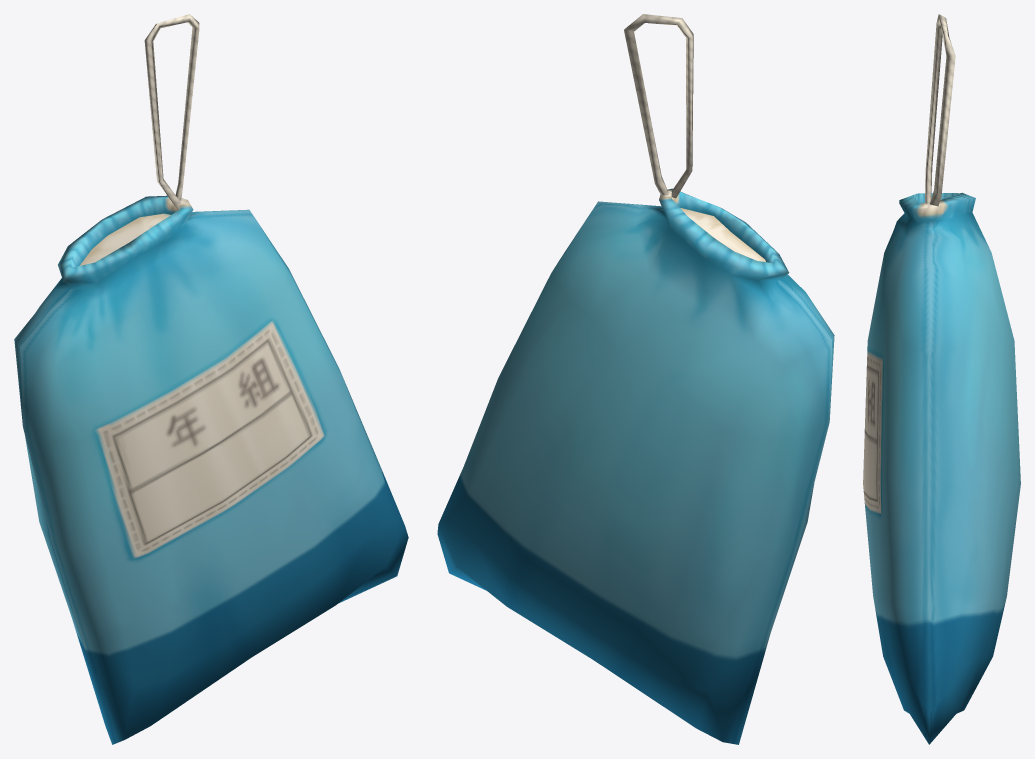
Rendered from Bag_B_01_02.fbx.
3 views of the same model, side by side, from view 1: azimuth 30°, elevation 25°; view 2: azimuth 150°, elevation 25°; view 3: azimuth 270°, elevation 25° (orthographic).
Visible parts, largest first — view 1: bag_B_01_02; view 2: bag_B_01_02; view 3: bag_B_01_02.
Part boxes in pixels (box(x1,y1,x2,y2)): bag_B_01_02: box(14, 14, 408, 744); bag_B_01_02: box(437, 14, 834, 744); bag_B_01_02: box(863, 14, 1020, 744).
Bounding box in the file's own units: 26.23 × 45.58 × 9.12.
